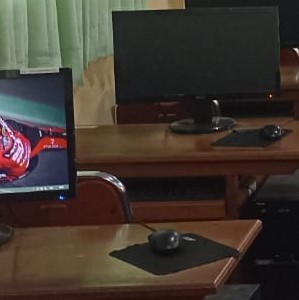monitor: (112, 7, 282, 133), (0, 67, 77, 202), (184, 0, 299, 49)
